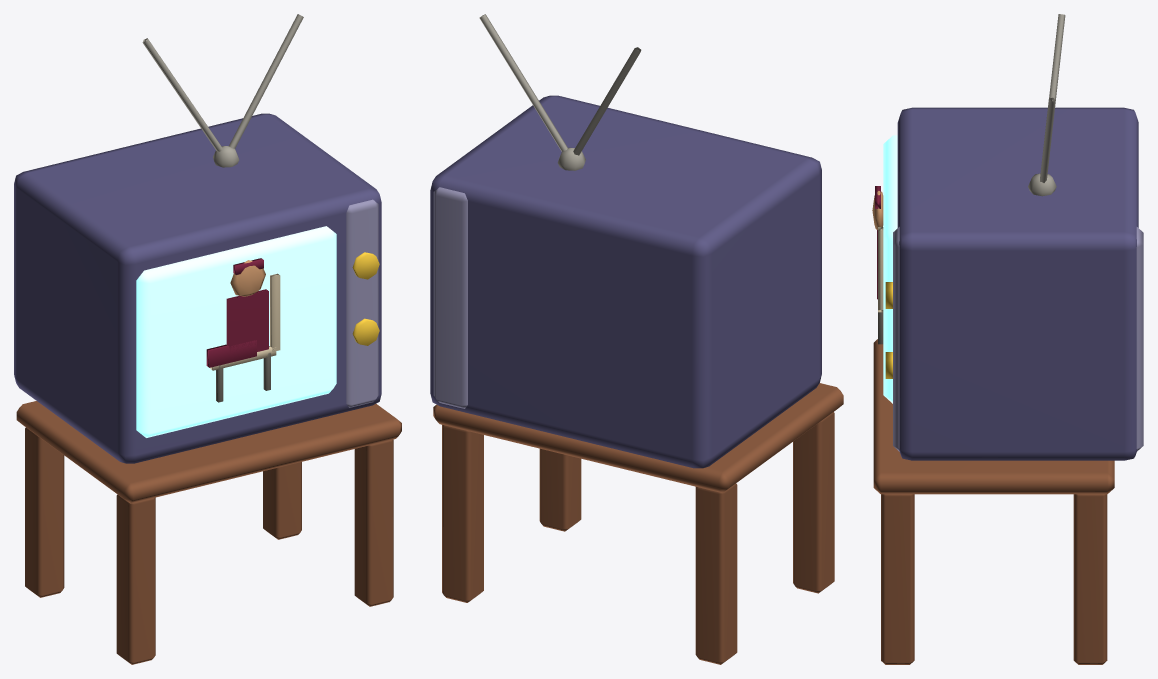
3 views of the same model, side by side, from view 1: azimuth 30°, elevation 25°; view 2: azimuth 150°, elevation 25°; view 3: azimuth 270°, elevation 25° (orthographic). The views are drawn at different scales.
Parts seen in each view (by area): view 1: Tv.001; view 2: Tv.001; view 3: Tv.001.
Boxes of the visible parts, x1,y1,x2,y2 form: Tv.001: (14, 14, 401, 664); Tv.001: (430, 14, 843, 664); Tv.001: (872, 14, 1143, 664).
Size of the model in its own units: 0.7 by 1.3 by 0.5625.
